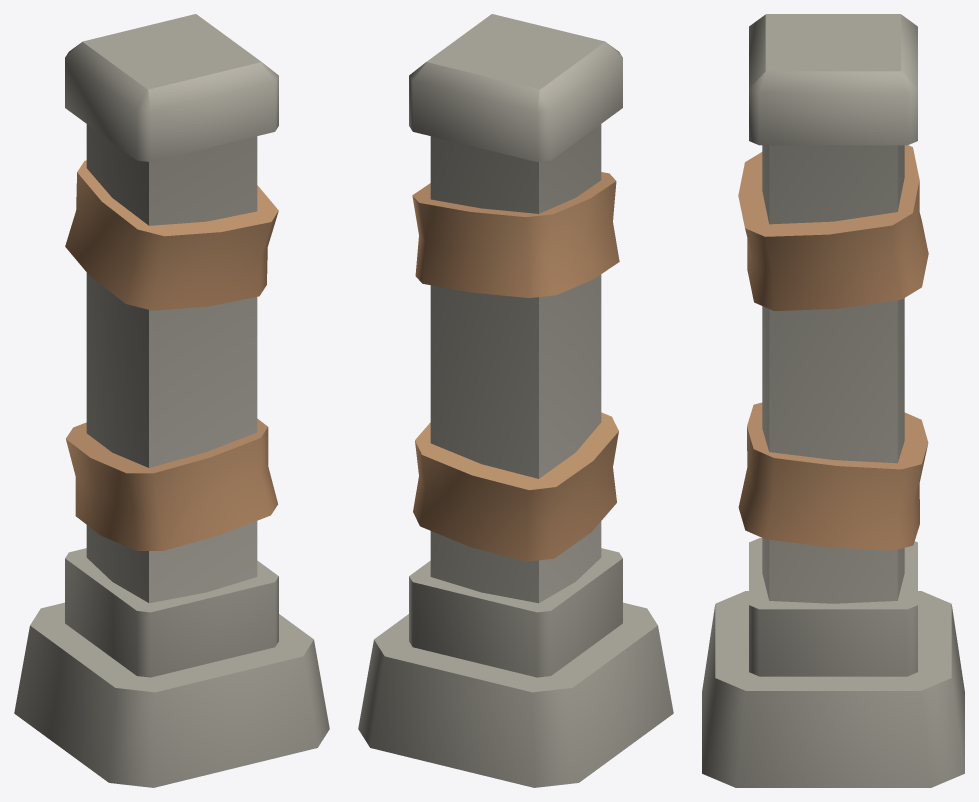
The model's file is ruin-column.glb.
3 views of the same model, side by side, from view 1: azimuth 30°, elevation 25°; view 2: azimuth 150°, elevation 25°; view 3: azimuth 270°, elevation 25° (orthographic). The views are drawn at different scales.
Parts seen in each view (by area): view 1: column-large; view 2: column-large; view 3: column-large.
Part boxes in pixels (left/top/right/bottom): column-large: left=14, top=14, right=329, bottom=787; column-large: left=358, top=14, right=673, bottom=787; column-large: left=702, top=14, right=964, bottom=787.
Bounding box in the file's own units: 0.6212 × 1.8 × 0.6212.
